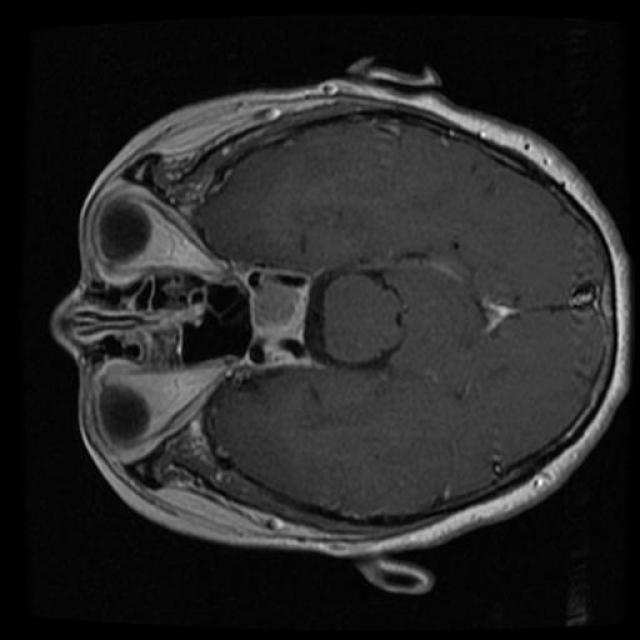Pituitary: (233, 264, 322, 381)
